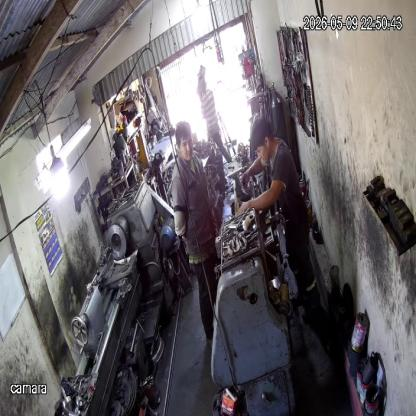sin_lentes: (178, 136, 194, 148)
